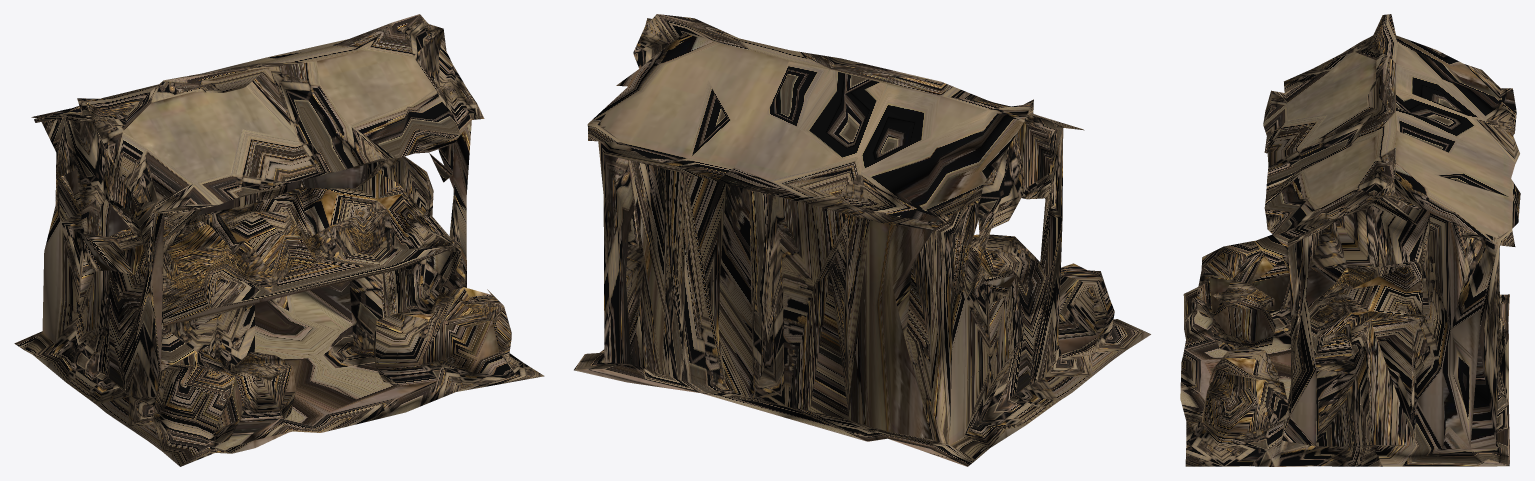
The model's file is meshy_stall_potatoes_lod1.glb.
3 views of the same model, side by side, from view 1: azimuth 30°, elevation 25°; view 2: azimuth 150°, elevation 25°; view 3: azimuth 270°, elevation 25° (orthographic). The views are drawn at different scales.
Bounding box in the file's own units: 3.7 × 2.8 × 3.06.
Materials: 1 (1 with a texture image).
